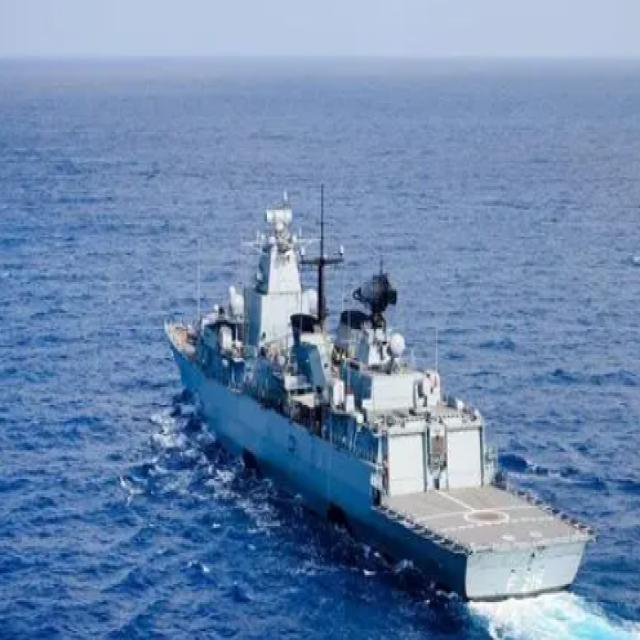navalvessels: (158, 178, 596, 607)
